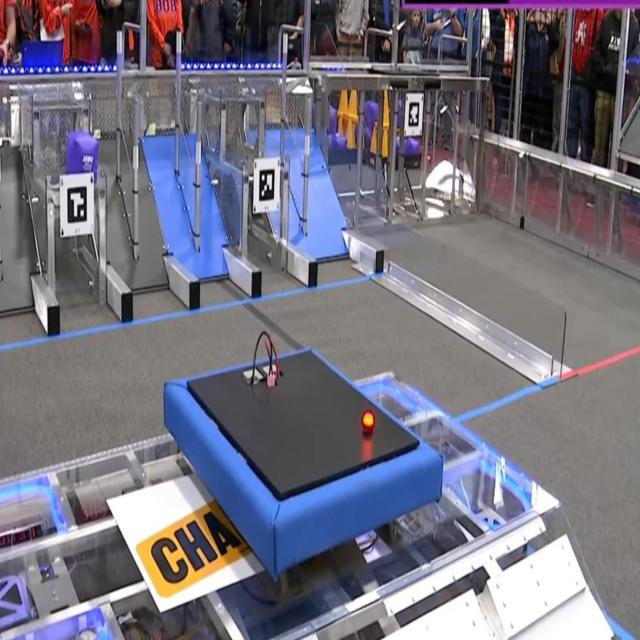frc_cone: (380, 129, 390, 167), (370, 126, 381, 160), (340, 90, 351, 123), (328, 77, 338, 111), (370, 86, 379, 123), (359, 123, 367, 159), (351, 92, 360, 120), (347, 122, 354, 154), (382, 92, 388, 122)
frc_cube: (66, 130, 98, 185), (364, 97, 381, 129), (327, 102, 338, 140), (406, 138, 421, 159)
